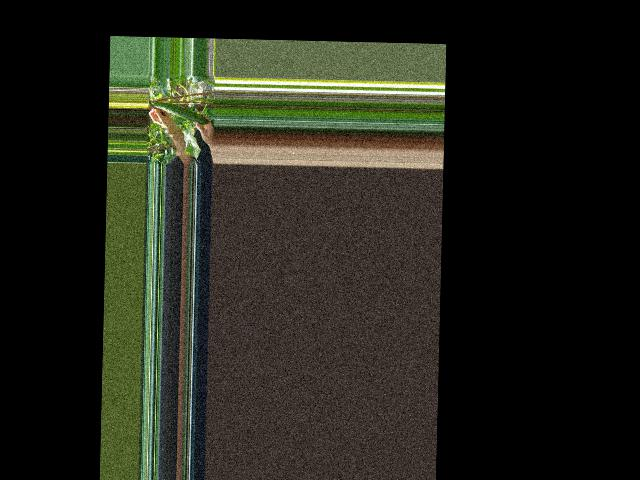cucumber: (154, 102, 209, 124)
